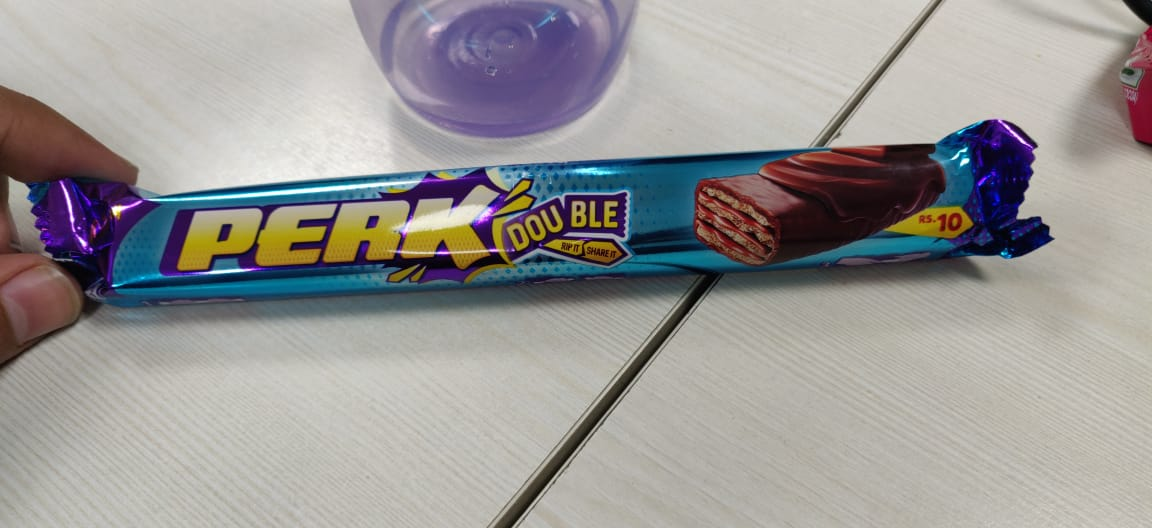perk: (28, 114, 1077, 313)
